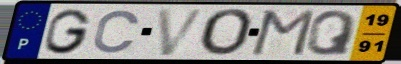C: (90, 8, 143, 55)
G: (42, 7, 94, 56)
M: (247, 8, 318, 58)
O: (198, 7, 257, 58)
Q: (304, 9, 360, 57)
V: (155, 7, 210, 58)
